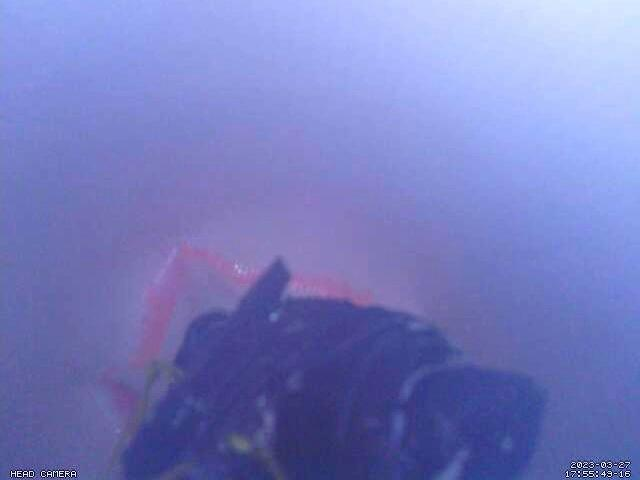head: (95, 242, 375, 432)
